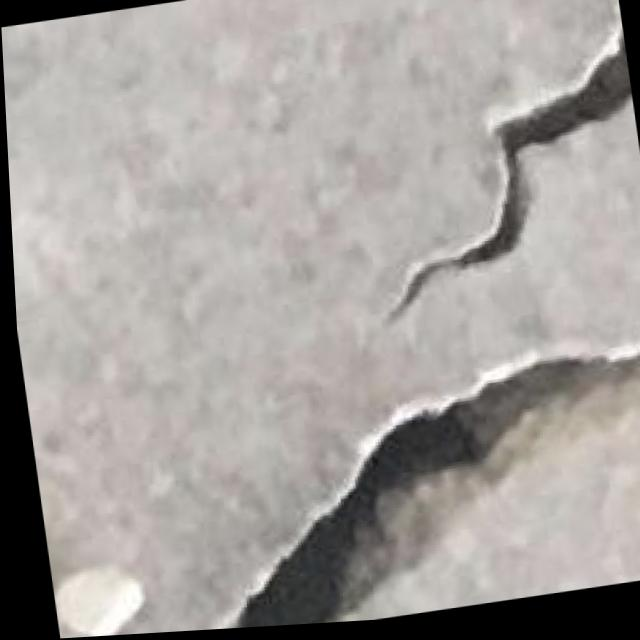Crack: (23, 340, 640, 640), (344, 41, 640, 355)
